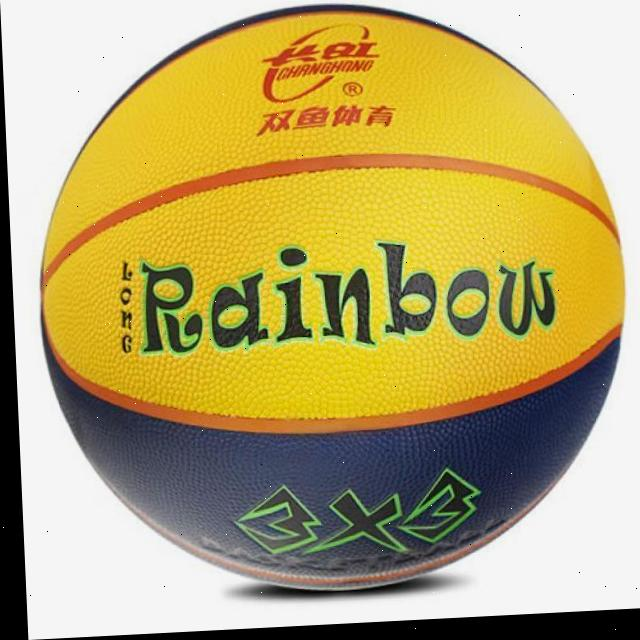Basketball: (28, 0, 638, 609), (445, 270, 490, 339), (279, 247, 308, 268)
